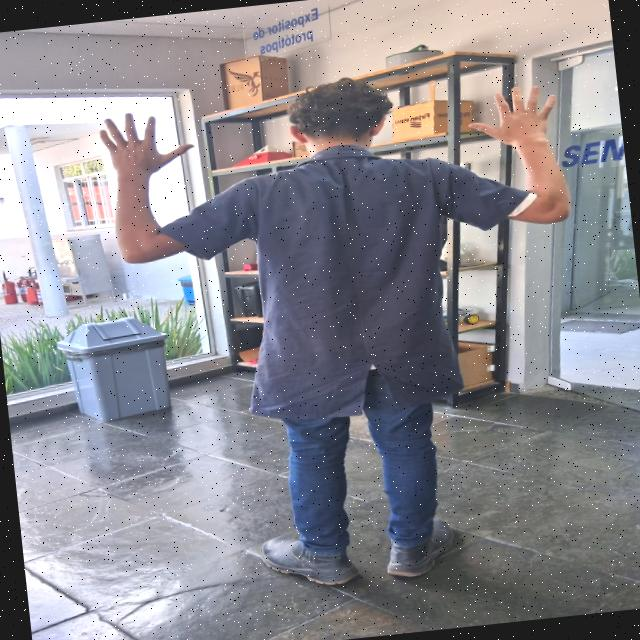BOTA: (258, 534, 363, 584), (387, 515, 458, 576)
JALECO: (148, 143, 534, 416)
SEM LUVA: (91, 107, 197, 178), (461, 85, 559, 147)
